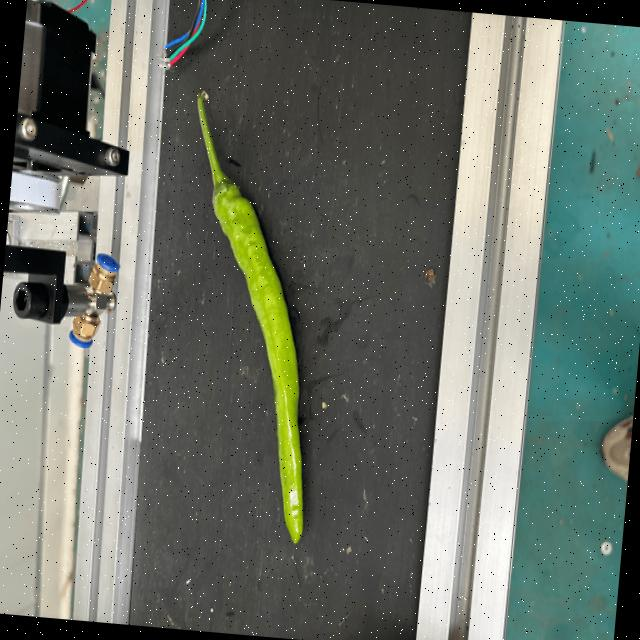chili: (209, 176, 304, 545)
